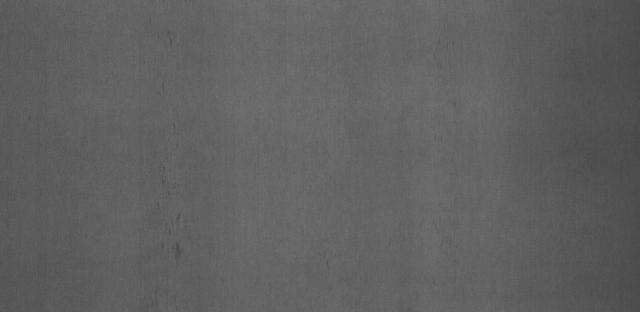silk_spot: (129, 180, 213, 280)
